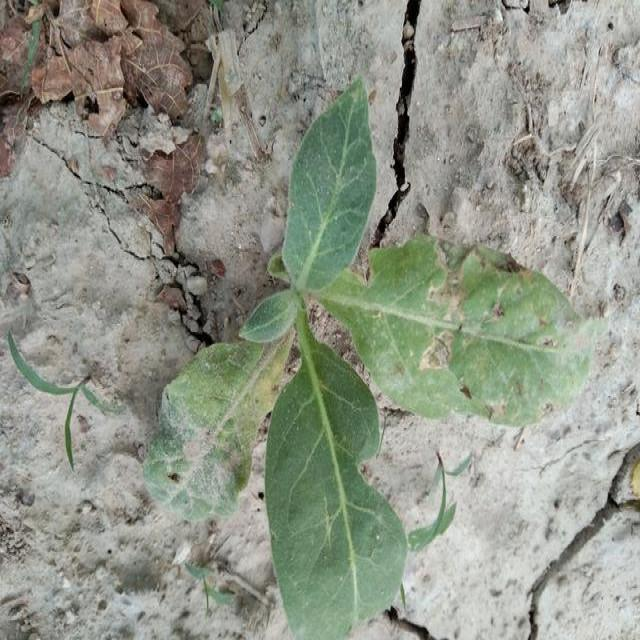crop: (150, 99, 583, 640)
